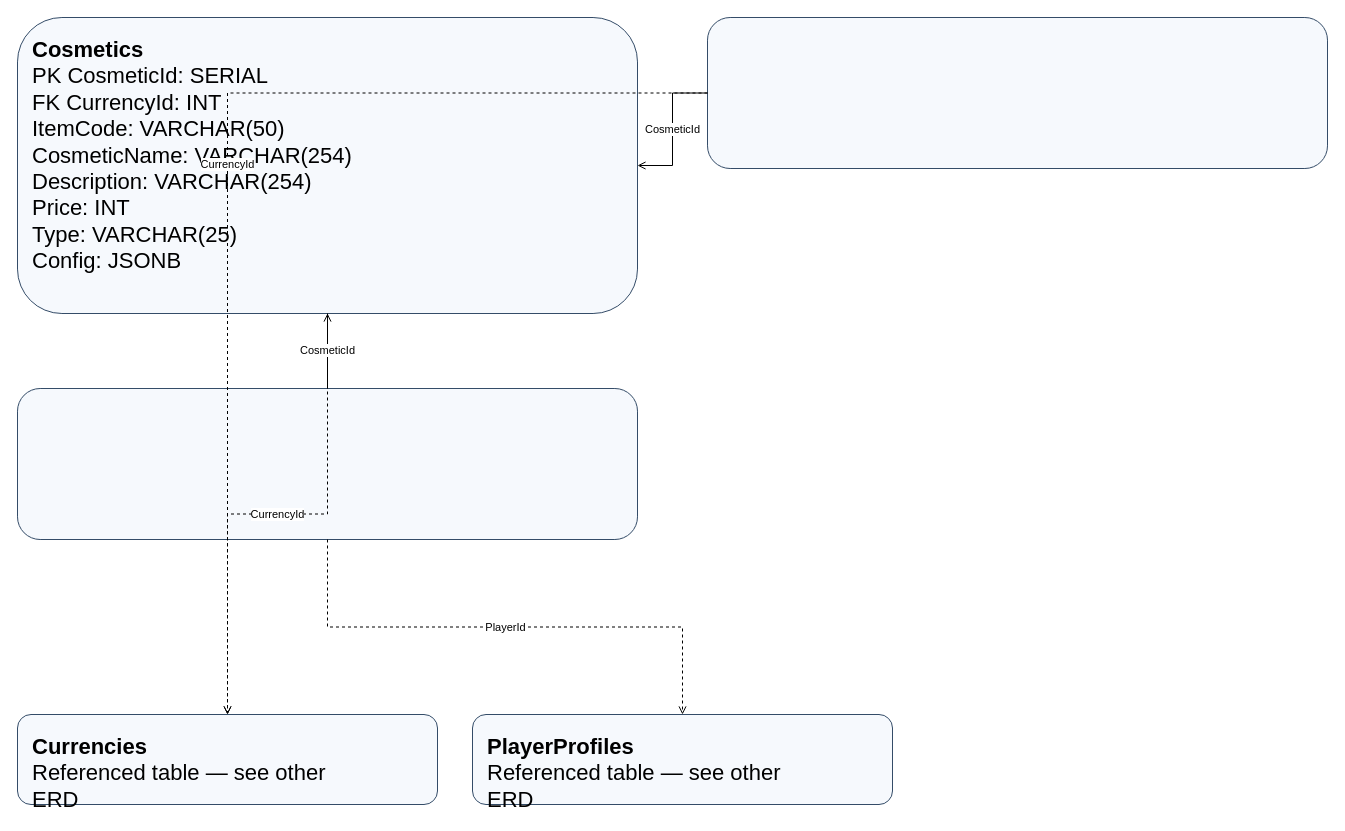
Image size: 1345x831. Some labels were removed from this diagram. The shapes that lost their labels are listed below. From the top down, each one's box as (x1, y1, x2, y2) in pixels, then its label:
(706, 16, 1328, 168): CosmeticPrices PK FK CosmeticId: INT PK FK CurrencyId: INT Price: INT
(16, 388, 638, 540): PlayerCosmetics PK FK PlayerId: UUID PK FK CosmeticId: INT Equipped: BOOLEAN
